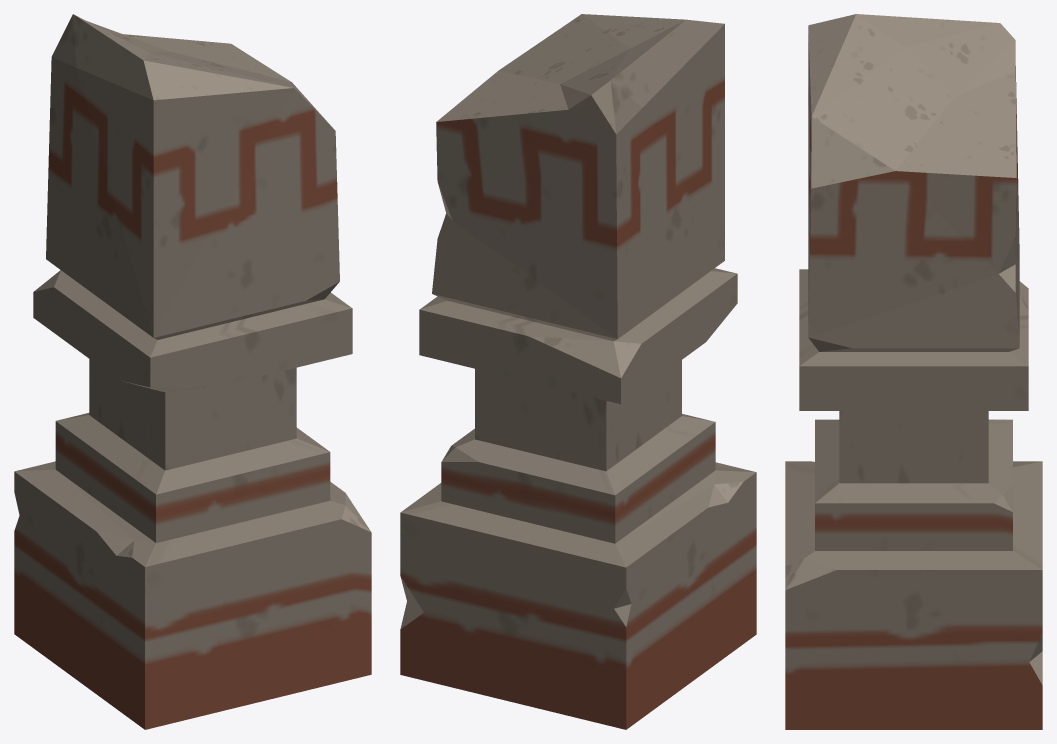
Rendered from pit_ruin_pillar_broken.gltf.
3 views of the same model, side by side, from view 1: azimuth 30°, elevation 25°; view 2: azimuth 150°, elevation 25°; view 3: azimuth 270°, elevation 25° (orthographic).
Visible parts, largest first — view 1: pit_ruin_pillar_broken; view 2: pit_ruin_pillar_broken; view 3: pit_ruin_pillar_broken.
Boxes of the visible parts, x1=… form: pit_ruin_pillar_broken: x1=14, y1=14, x2=371, y2=729; pit_ruin_pillar_broken: x1=400, y1=14, x2=756, y2=729; pit_ruin_pillar_broken: x1=785, y1=14, x2=1042, y2=729.
Size of the model in its own units: 0.7681 by 2.06 by 0.7681.
Materials: 1 (1 with a texture image).
